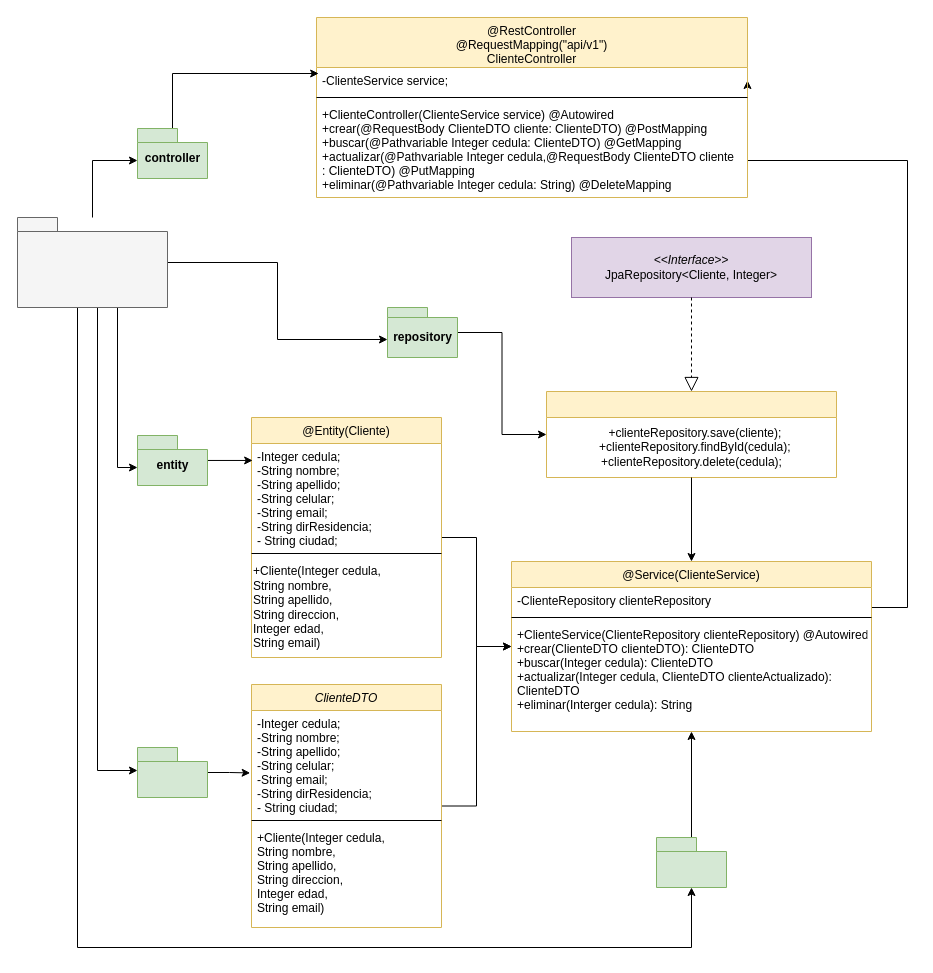
This 933x973 diagram has some shape labels left out. Here are the shapes that lost their labels. From the top down, the box of each, then its label:
(16, 216, 168, 308): mensajeria-api-java
(546, 390, 836, 478): @Repository(ClienteRepository)
(136, 746, 208, 798): dto
(656, 836, 726, 888): service
